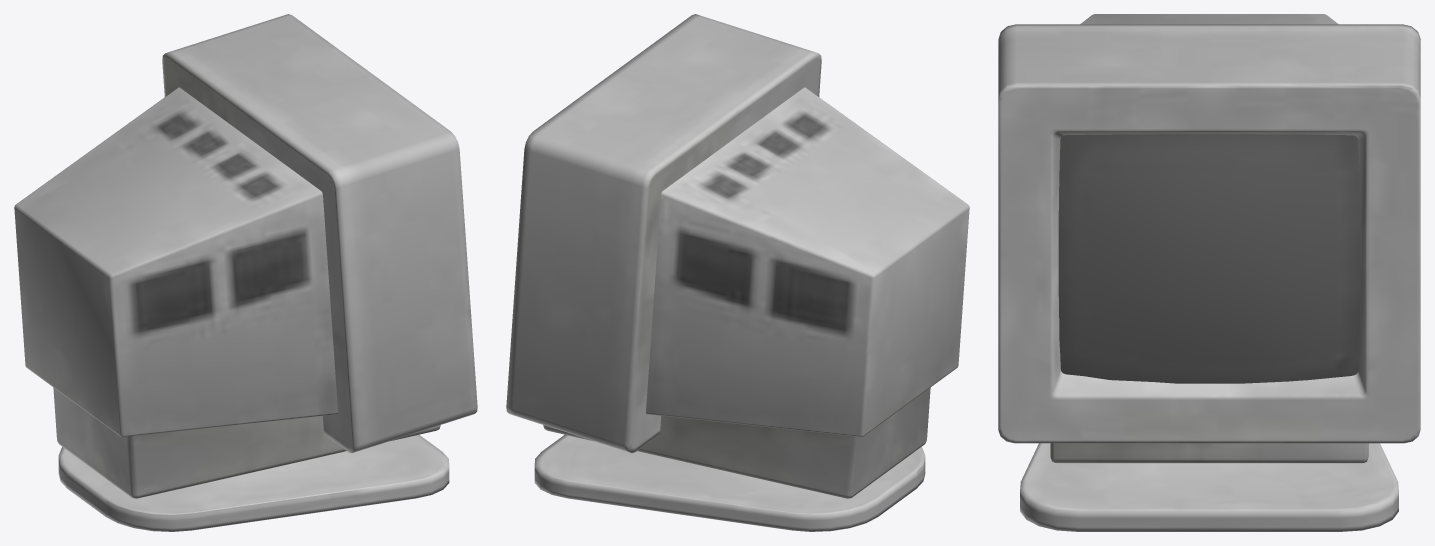
The model's file is crt_monitor.glb.
3 views of the same model, side by side, from view 1: azimuth 30°, elevation 25°; view 2: azimuth 150°, elevation 25°; view 3: azimuth 270°, elevation 25° (orthographic). The views are drawn at different scales.
Parts seen in each view (by area): view 1: crt_monitor; view 2: crt_monitor; view 3: crt_monitor.
Boxes of the visible parts, bbox=[...] form: crt_monitor: bbox=[14, 14, 477, 531]; crt_monitor: bbox=[506, 14, 969, 531]; crt_monitor: bbox=[998, 14, 1420, 531].
Bounding box in the file's own units: 0.3639 × 0.38 × 0.3336.
1 material, 1 textured.
